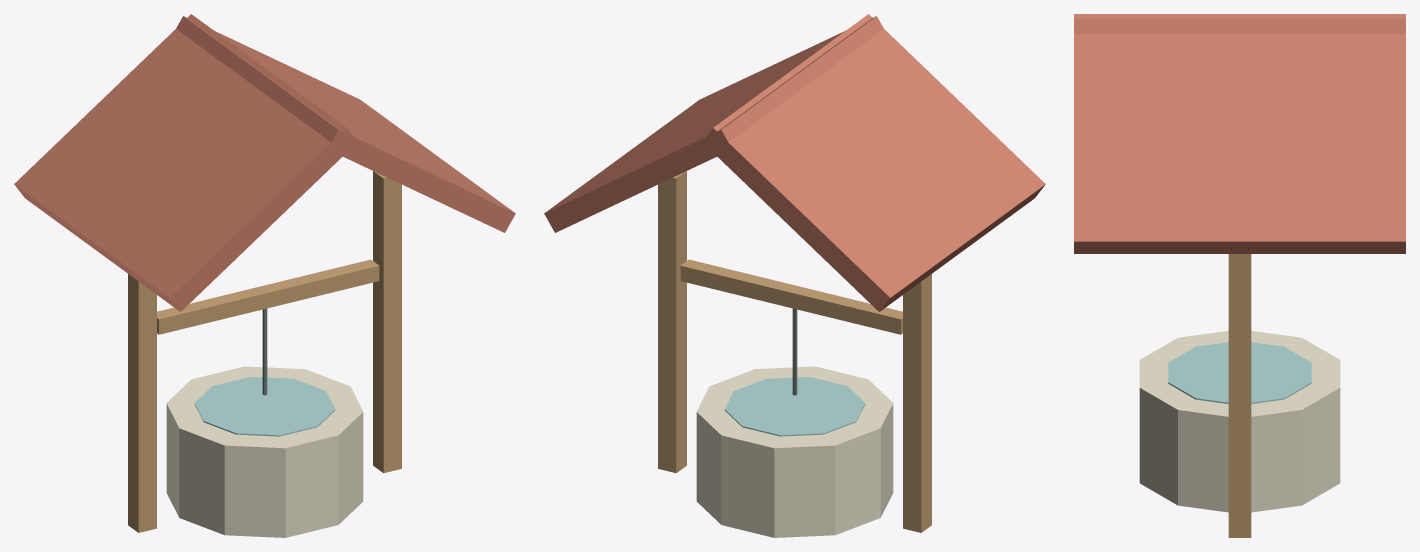
Rendered from cozy-farm-and-homestead-well-canopy-1565e518__19368.glb.
3 views of the same model, side by side, from view 1: azimuth 30°, elevation 25°; view 2: azimuth 150°, elevation 25°; view 3: azimuth 270°, elevation 25° (orthographic). The views are drawn at different scales.
Parts seen in each view (by area): view 1: well-canopy; view 2: well-canopy; view 3: well-canopy.
Part boxes in pixels (x1,y1,x2,y2): well-canopy: [14, 14, 515, 537]; well-canopy: [544, 14, 1045, 537]; well-canopy: [1074, 14, 1405, 537].
Size of the model in its own units: 2.83 by 3.32 by 2.2.
